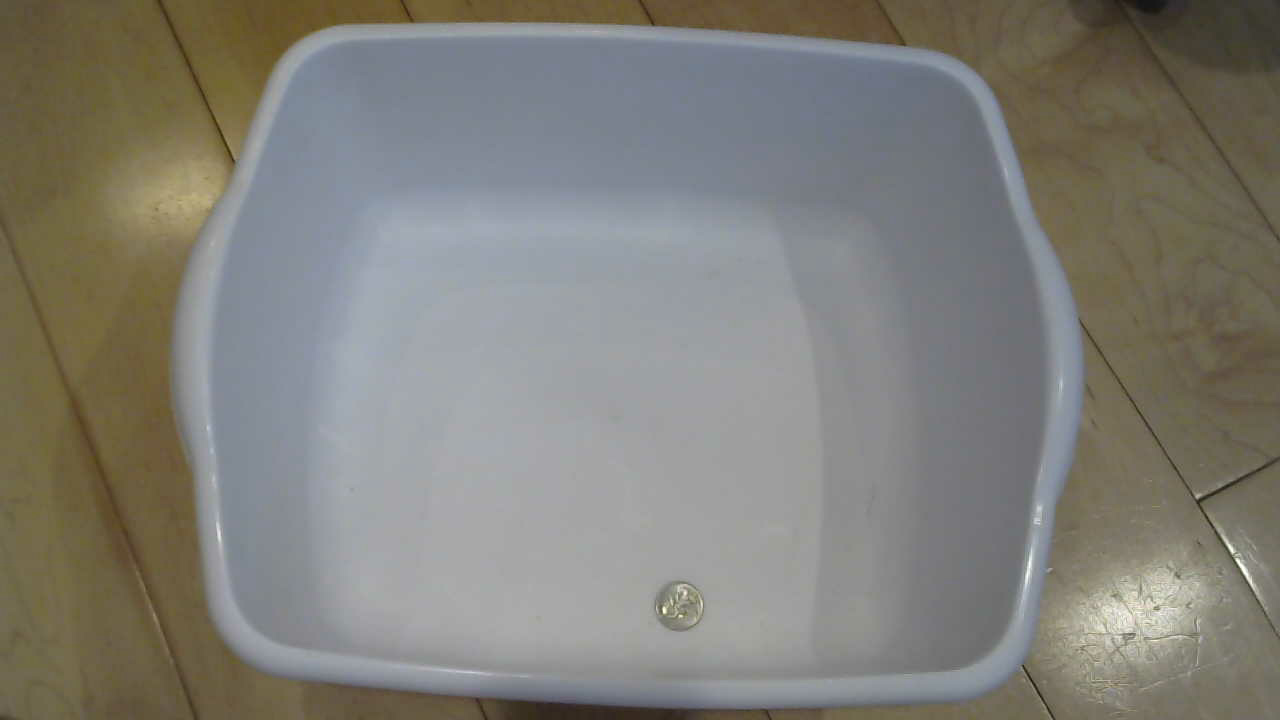coin: (651, 580, 715, 639)
